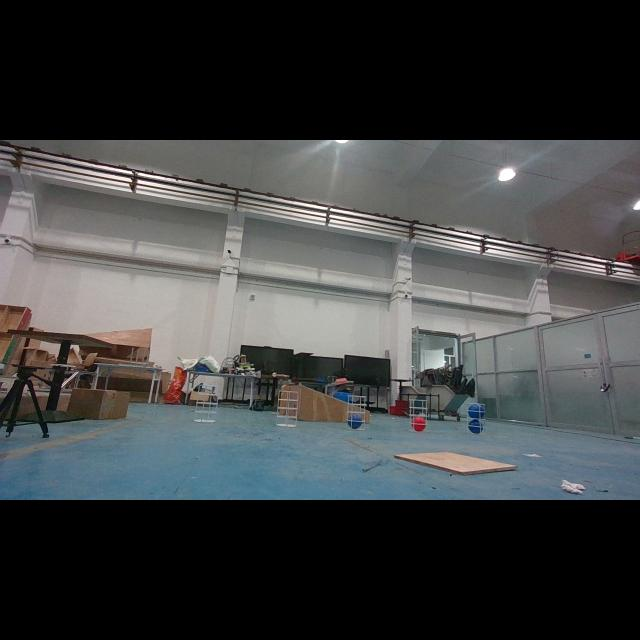B: (467, 405, 485, 419), (466, 421, 484, 434), (347, 415, 363, 429)
R: (410, 418, 426, 430)
S: (192, 383, 222, 425), (276, 389, 302, 429), (344, 393, 370, 433), (464, 401, 488, 439), (408, 396, 430, 434)
